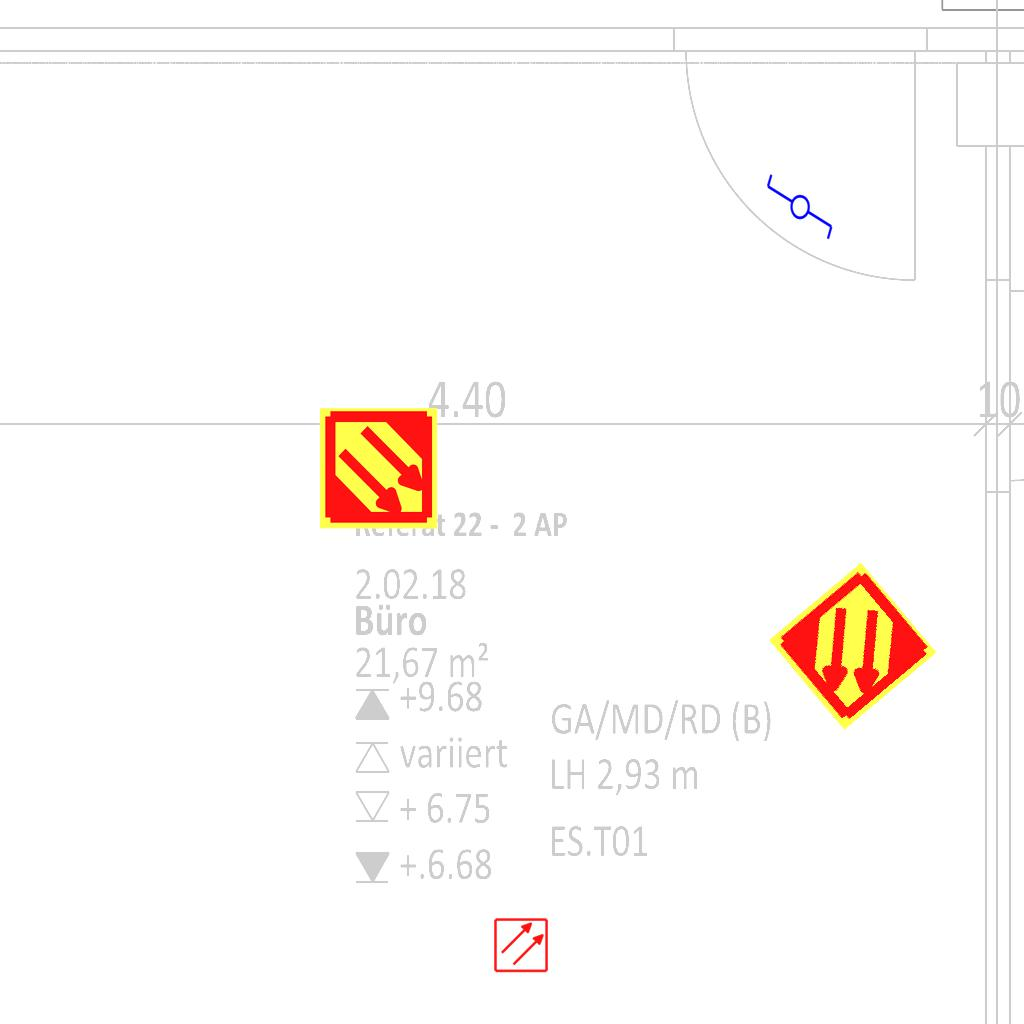ASR_Ansaugrauchmelder: (764, 558, 941, 735), (316, 406, 441, 531)
RMO_Rauchmelder_optischer: (493, 917, 549, 973)
Wechselschalter: (763, 172, 835, 250)
